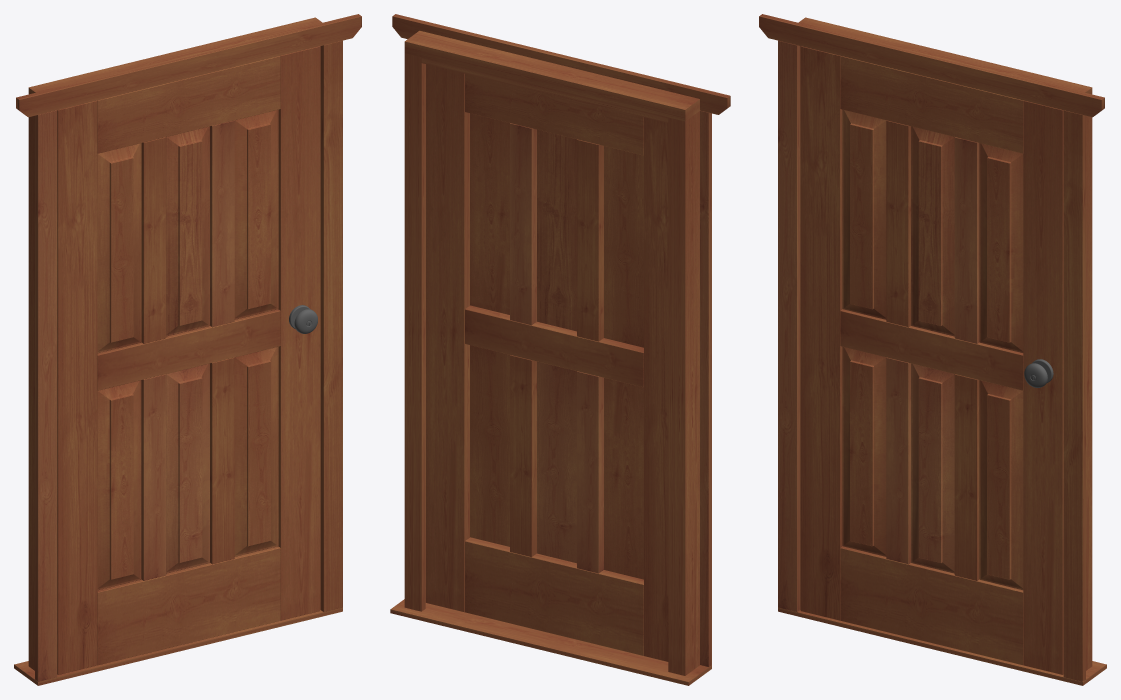
3 views of the same model, side by side, from view 1: azimuth 30°, elevation 25°; view 2: azimuth 150°, elevation 25°; view 3: azimuth 330°, elevation 25° (orthographic). The views are drawn at different scales.
Parts seen in each view (by area): view 1: door_right, door_left, door_bottom, trim_left, trim_right, door_top, panel_extruded004, panel_extruded006, panel_extruded003, panel_extruded001, panel_extruded005, panel_extruded002 (+11 smaller); view 2: door_right, box_left, door_bottom, door_left, box_top, panel_extruded006, panel_extruded001, panel_extruded004, panel_extruded003, panel_extruded002, panel_extruded005, box_right (+12 smaller); view 3: door_left, door_right, door_bottom, trim_right, trim_left, door_top, panel_extruded006, panel_extruded004, panel_extruded001, panel_extruded003, panel_extruded005, panel_extruded002 (+11 smaller).
Boxes of the visible parts, box(x1,y1,x2,y2) form: door_right: box(278, 46, 320, 620); door_left: box(57, 100, 97, 674); door_bottom: box(97, 546, 280, 665); trim_left: box(35, 110, 57, 681); trim_right: box(320, 40, 342, 611); door_top: box(97, 56, 280, 153); panel_extruded004: box(97, 380, 141, 590); panel_extruded006: box(234, 346, 278, 556); panel_extruded003: box(234, 109, 278, 319); panel_extruded001: box(97, 143, 141, 352); panel_extruded005: box(166, 363, 209, 573); panel_extruded002: box(166, 126, 209, 336); door_right: box(426, 64, 469, 612); box_left: box(674, 111, 699, 675); door_bottom: box(465, 537, 643, 655); door_left: box(644, 117, 668, 661); box_top: box(404, 30, 699, 121); panel_extruded006: box(470, 345, 509, 546); panel_extruded001: box(604, 146, 643, 347); panel_extruded004: box(604, 378, 643, 579); panel_extruded003: box(470, 113, 509, 314); panel_extruded002: box(537, 129, 576, 331); panel_extruded005: box(537, 361, 576, 563); box_right: box(404, 53, 425, 610); door_left: box(800, 46, 842, 620); door_right: box(1023, 100, 1063, 674); door_bottom: box(840, 546, 1023, 665); trim_right: box(1063, 110, 1085, 681); trim_left: box(778, 40, 800, 611); door_top: box(840, 56, 1023, 153); panel_extruded006: box(979, 380, 1023, 590); panel_extruded004: box(842, 346, 886, 556); panel_extruded001: box(842, 109, 886, 319); panel_extruded003: box(979, 143, 1023, 352); panel_extruded005: box(911, 363, 954, 573); panel_extruded002: box(911, 126, 954, 336).
Bounding box in the file's own units: 45.38 × 74.75 × 7.31.
9 materials, 8 textured.
